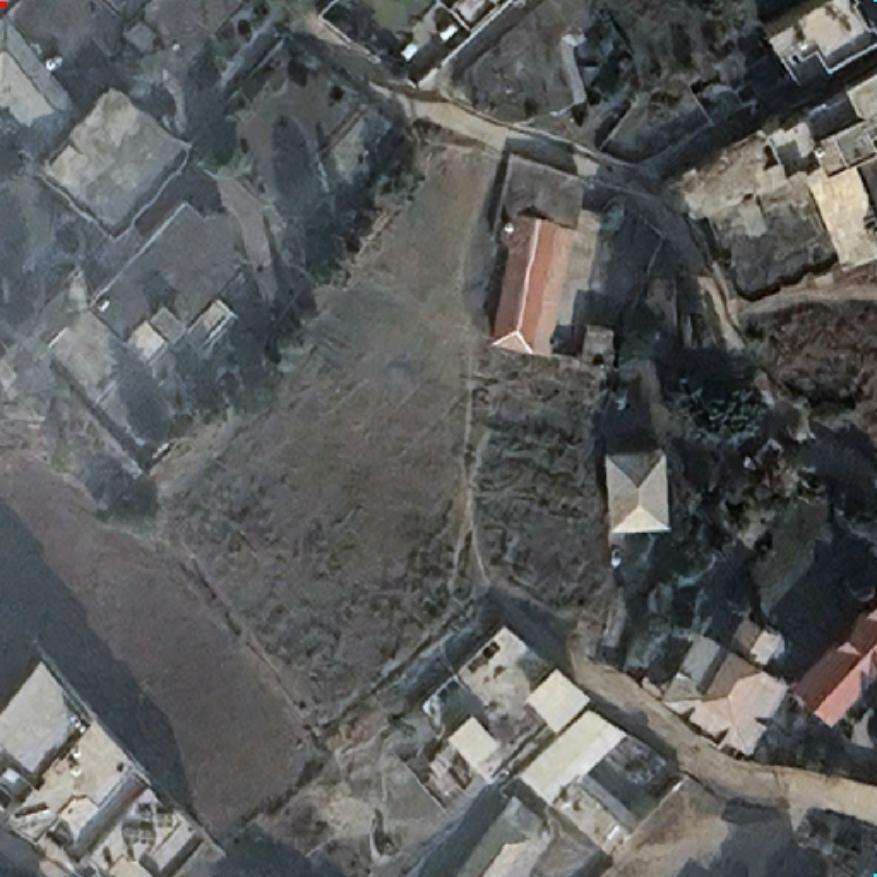Solarpanel: (120, 825, 156, 846), (139, 807, 174, 828)
